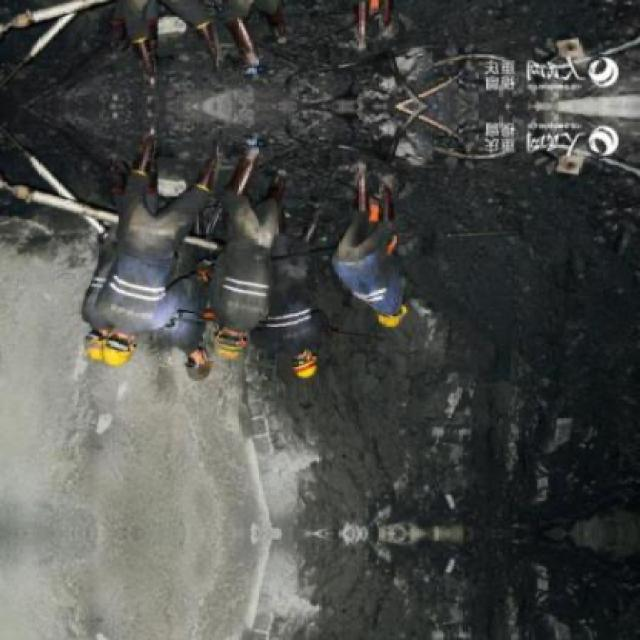con casco: (42, 302, 149, 377), (214, 316, 261, 371), (371, 292, 416, 348), (299, 351, 333, 383)
